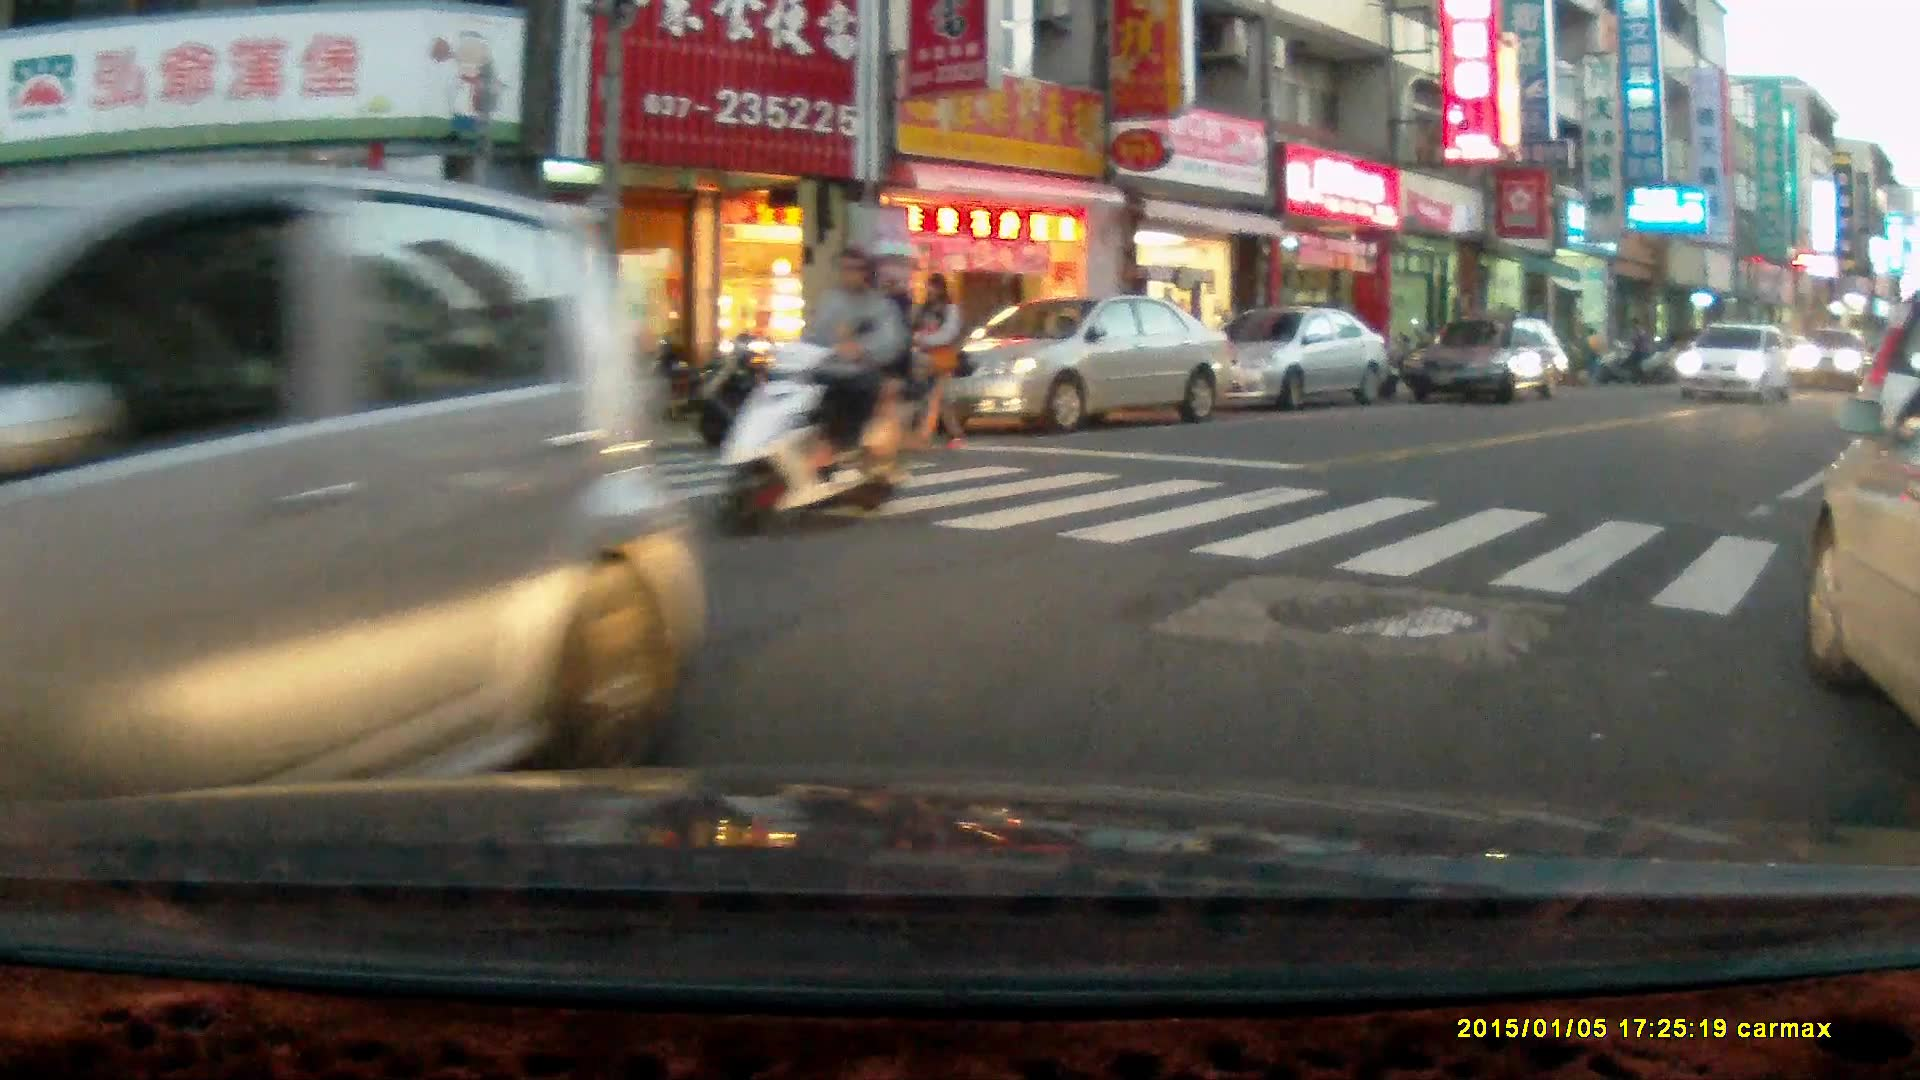pedestrian: (915, 268, 965, 452)
rider: (711, 237, 920, 541)
vehicle: (1, 158, 718, 796), (919, 291, 1239, 430), (1799, 378, 1920, 727), (1842, 298, 1920, 568), (1194, 307, 1392, 408), (1407, 313, 1571, 410), (1676, 321, 1797, 399)
